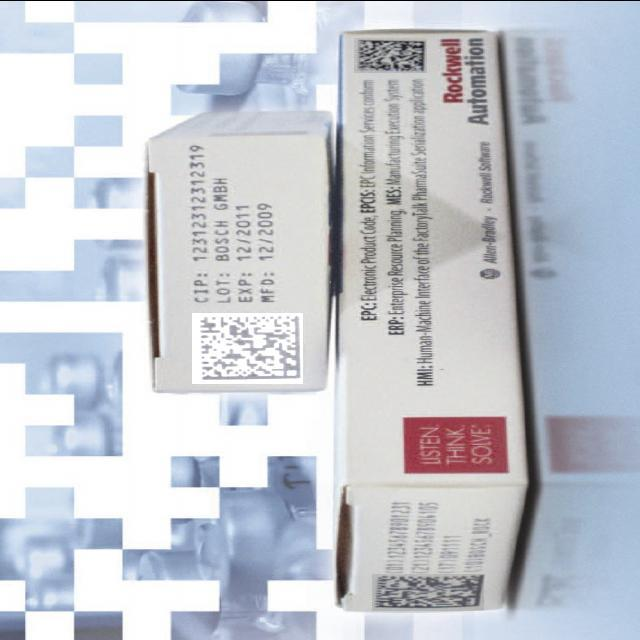Data-Matrix: (192, 312, 303, 383), (372, 573, 484, 610), (354, 37, 427, 72)
